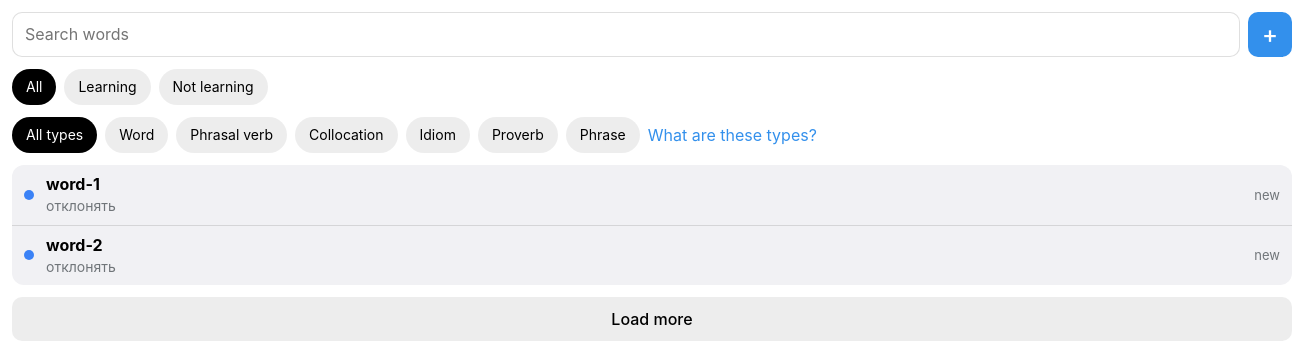
Test: CardsPage › shows a card once when it appears on two pages, without a duplicate key warning
Expected: the text "word-1" is shown, [46,174,100,194]
What coordinates should you click on to do the following:
click the button "Load more"
I would click on:
 (652, 319)
Its box is [12,297,1292,341].
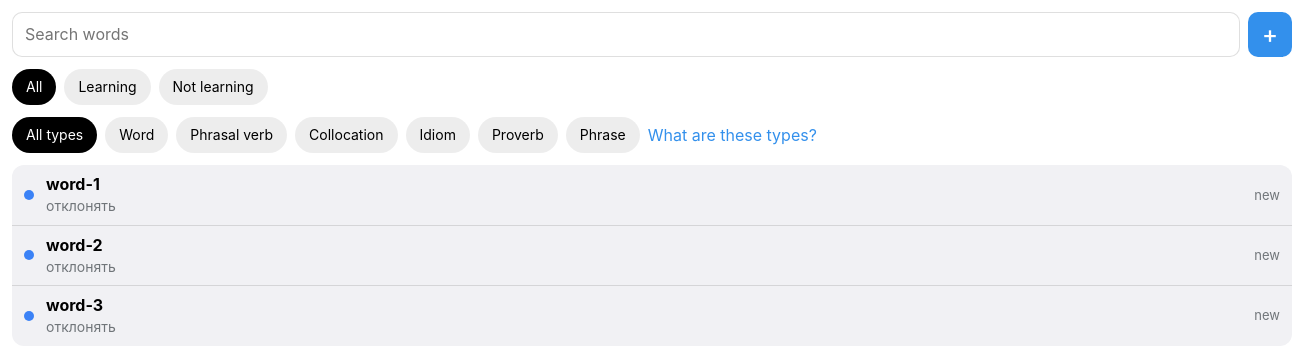
Now the text "word-3" is shown, box [46,295,103,315]
Now the text "word-2" is shown once, box [46,235,103,255]
Now the number of list items is 3, box [12,165,1292,225]; [12,225,1292,285]; [12,285,1292,346]
